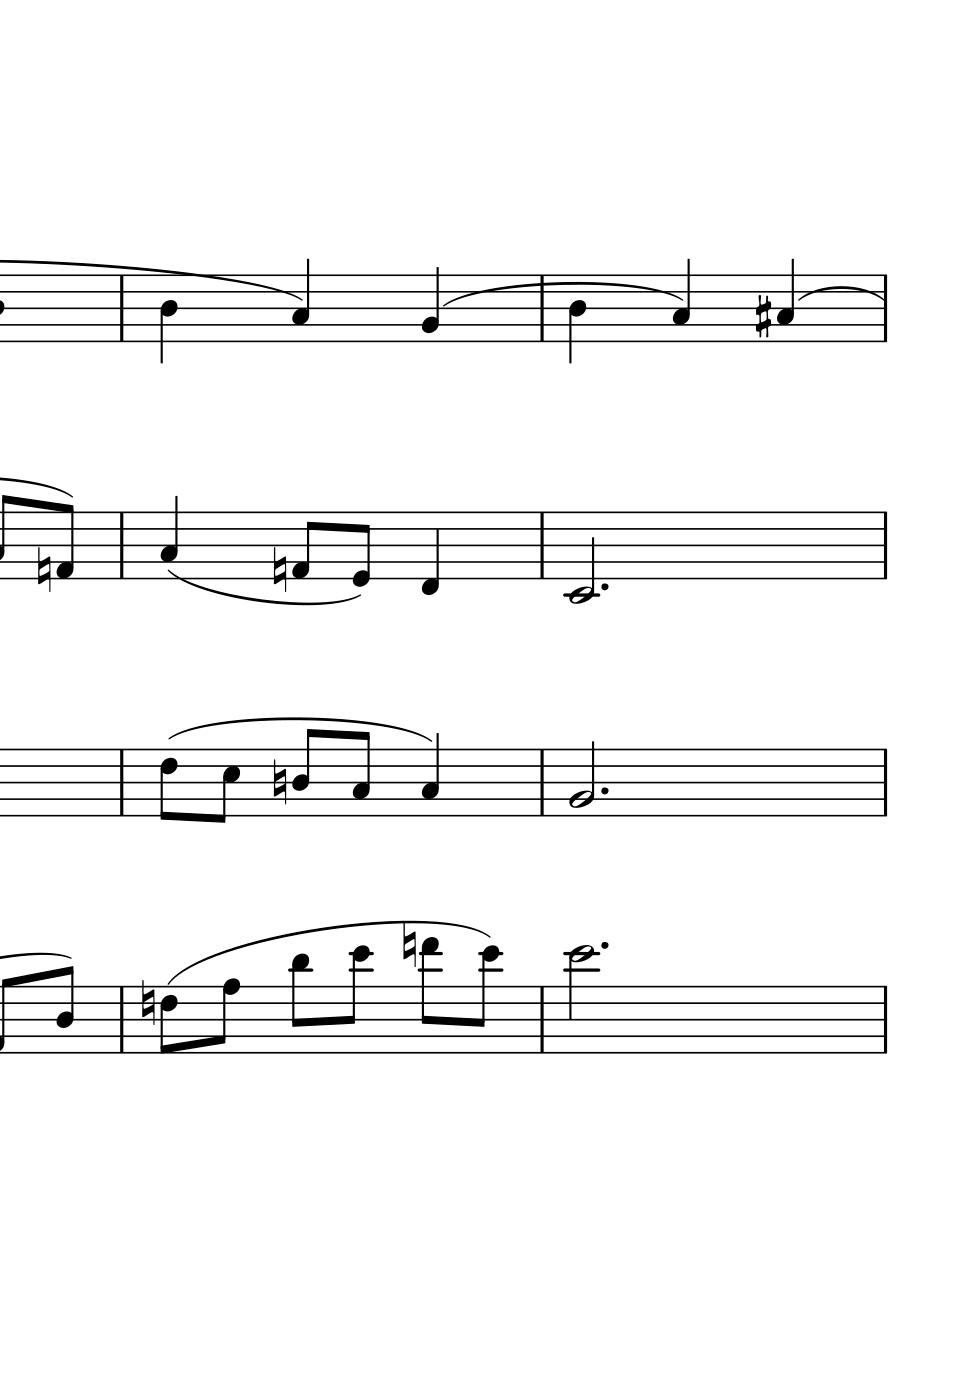2_-2: (565, 508, 598, 606)
2_12: (565, 943, 597, 1055)
2_2: (566, 738, 597, 818)
4_-1: (418, 509, 441, 596)
4_2: (420, 265, 442, 344)
4_3: (290, 257, 312, 343), (775, 257, 798, 343), (419, 734, 441, 818), (158, 495, 179, 580), (671, 257, 692, 343)
4_4: (566, 271, 588, 366), (158, 273, 179, 365)
8_0: (350, 510, 373, 589)
8_1: (291, 510, 320, 581), (55, 501, 76, 582)
8_11: (288, 951, 312, 1055)
8_12: (339, 944, 372, 1055), (470, 945, 503, 1056)
8_13: (417, 935, 445, 1055)
8_3: (349, 731, 372, 819)
8_4: (291, 729, 319, 818), (54, 965, 76, 1057)
8_5: (213, 747, 241, 826)
8_6: (157, 747, 178, 823), (158, 985, 180, 1057)
8_8: (212, 977, 241, 1055)
Natural: (34, 544, 52, 594), (270, 544, 288, 594), (270, 758, 288, 807), (138, 977, 155, 1027), (401, 922, 417, 970)
Sharp: (752, 292, 772, 340)
Single_barline: (113, 986, 132, 1053), (533, 274, 550, 343), (876, 512, 893, 579), (876, 749, 893, 815), (876, 986, 893, 1053), (533, 750, 550, 815), (533, 987, 550, 1052), (877, 274, 893, 343), (113, 276, 129, 341), (533, 513, 549, 579), (113, 750, 129, 815), (113, 513, 129, 578)
Slur: (164, 920, 490, 984), (168, 567, 361, 606), (442, 280, 684, 308), (164, 716, 434, 740), (798, 284, 885, 300)
dot: (597, 579, 610, 594), (598, 785, 610, 797), (598, 940, 610, 952)
